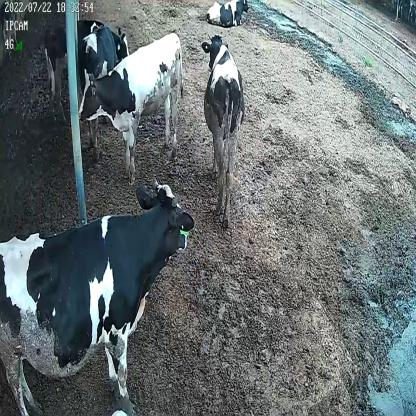cow: (0, 179, 194, 416), (79, 33, 186, 181), (42, 16, 130, 122), (200, 28, 246, 229), (78, 25, 116, 162), (205, 0, 249, 26)
